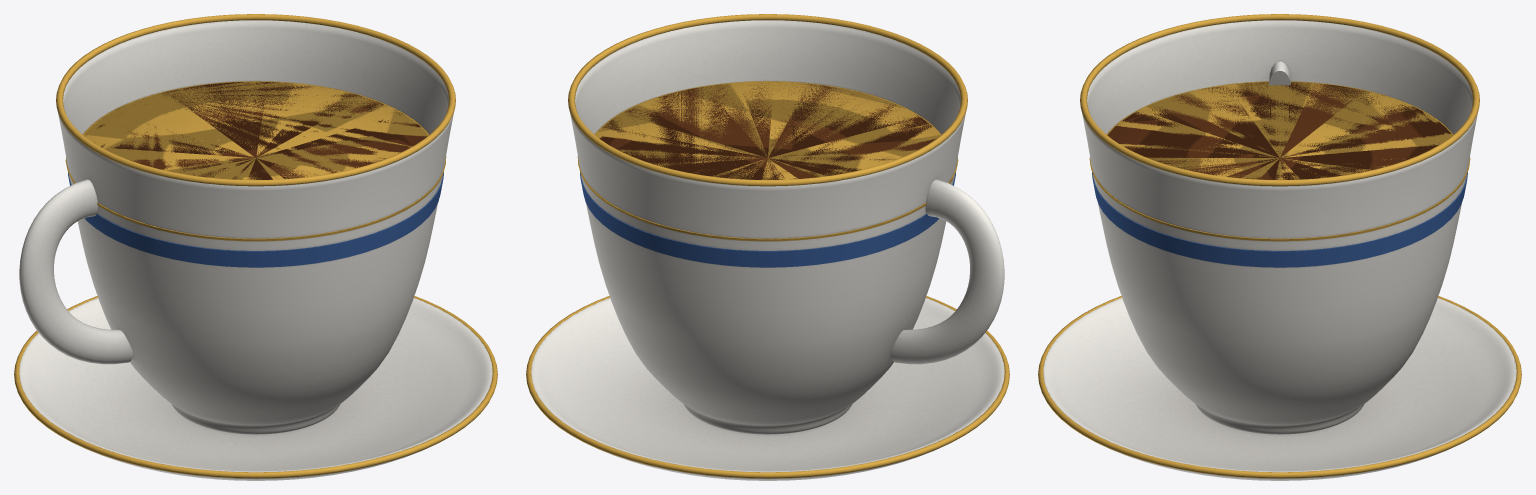
Rendered from piece_teacup.fbx.
3 renders of one model, left to right at view 1: azimuth 30°, elevation 25°; view 2: azimuth 150°, elevation 25°; view 3: azimuth 270°, elevation 25°, orthographic.
Visible parts, largest first — view 1: piece_teacup; view 2: piece_teacup; view 3: piece_teacup.
Boxes of the visible parts, x1,y1,x2,y2 form: piece_teacup: (14, 14, 497, 480); piece_teacup: (526, 14, 1009, 480); piece_teacup: (1038, 14, 1521, 480).
Size of the model in its own units: 0.2467 by 0.1727 by 0.2322.
